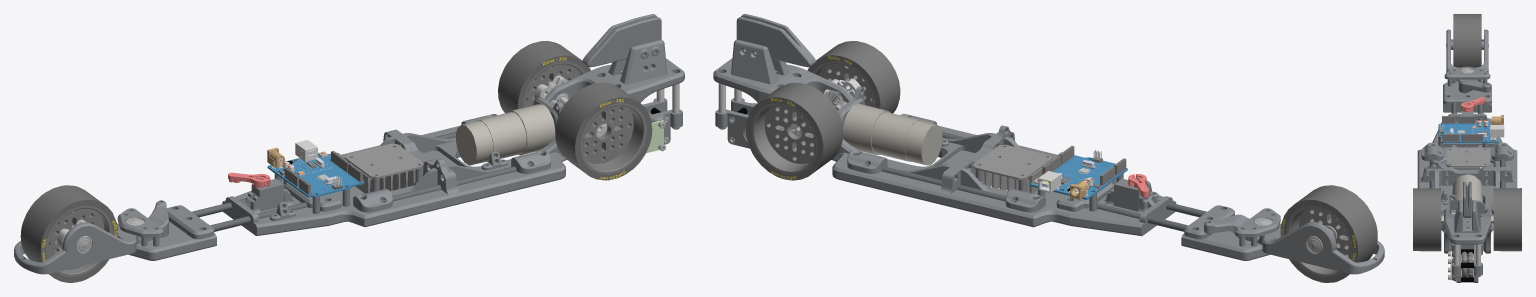
Rendered from EV_3D_Model.web.glb.
The picture shows the model from 3 angles, left to right: view 1: azimuth 30°, elevation 25°; view 2: azimuth 150°, elevation 25°; view 3: azimuth 270°, elevation 25°; orthographic projection. The views are drawn at different scales.
Bounding box in the file's own units: 0.609 × 0.1134 × 0.1242.
